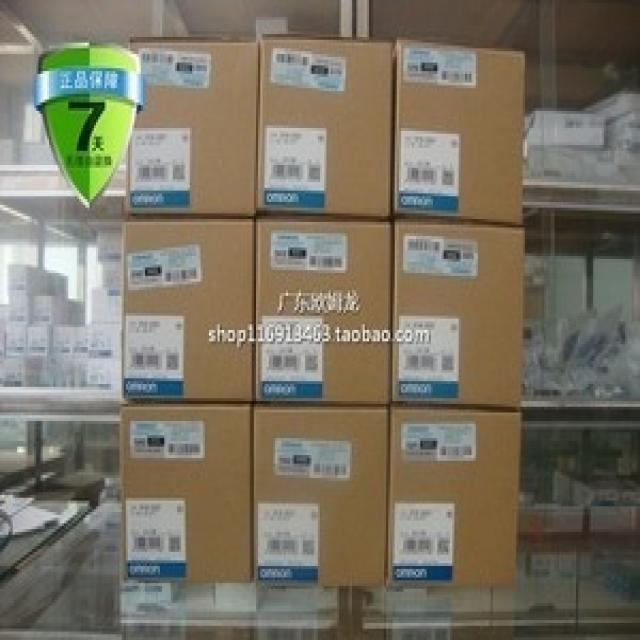box: (389, 219, 524, 408), (253, 220, 389, 406), (391, 41, 526, 226), (257, 37, 393, 218), (253, 408, 390, 587), (386, 408, 520, 590), (121, 220, 254, 403), (127, 39, 259, 216), (121, 406, 253, 583)
